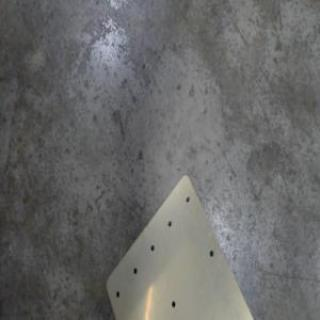MetalSheettrack_idkeyframe: (104, 167, 257, 319)
